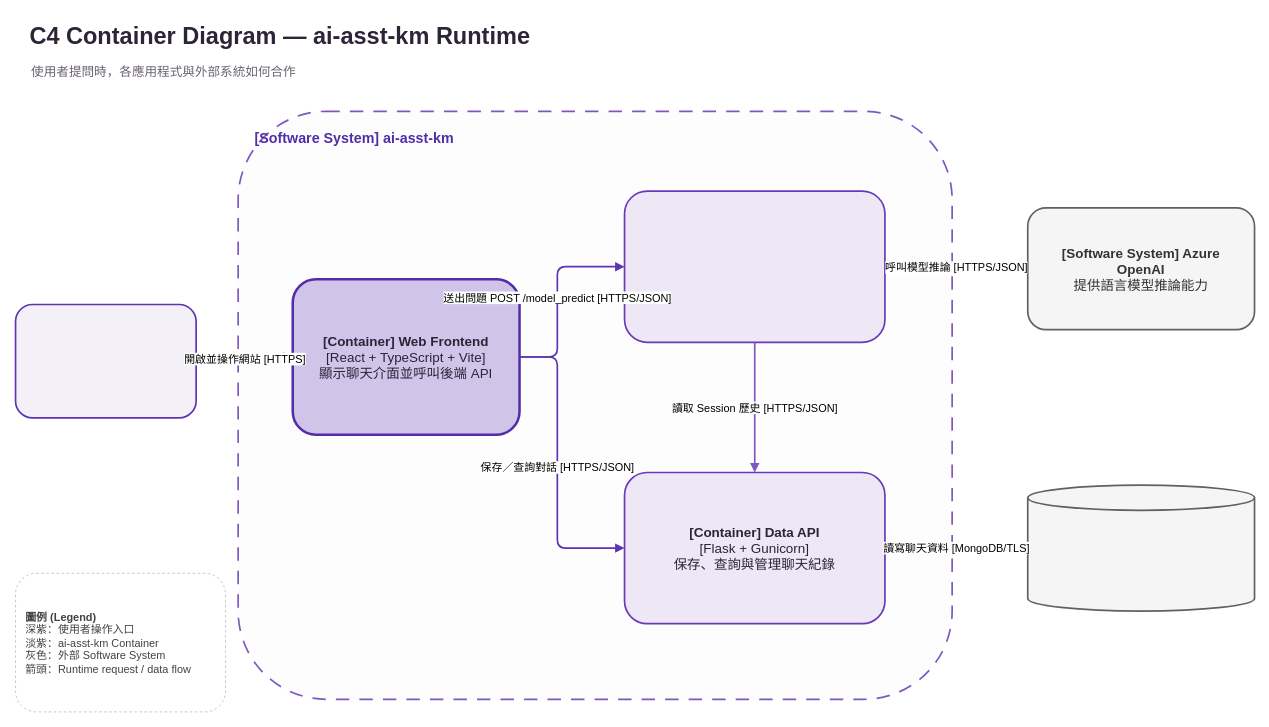
The diagram is 1269 pixels wide and 727 high, and some of its shapes have lost their labels. The centre of each missing label's shape, as x and y in pixels:
[Container] Model API [Flask + Gunicorn] 接收問題並執行 AI 問答流程: point 754,266
[Person] 使用者 透過瀏覽器進行 AI 問答: point 105,360
[Software System] MongoDB Atlas 保存聊天 Session 與回饋資料: point 1140,548
